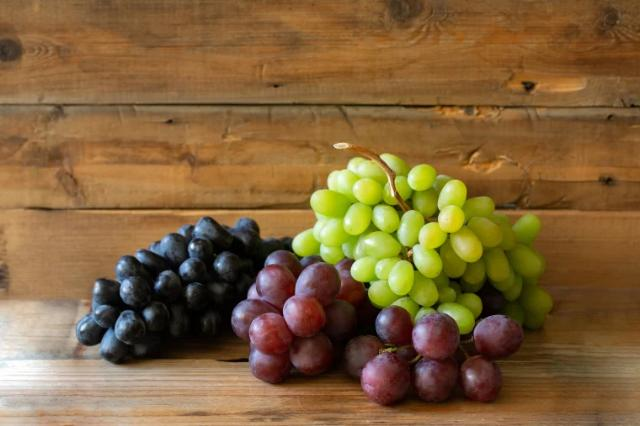Grapes: (298, 152, 544, 318), (240, 254, 494, 396), (76, 216, 270, 360)
